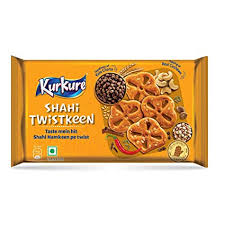kurkure: (33, 74, 92, 97)
plastic: (6, 49, 213, 175)
wrapper: (23, 60, 199, 163)
